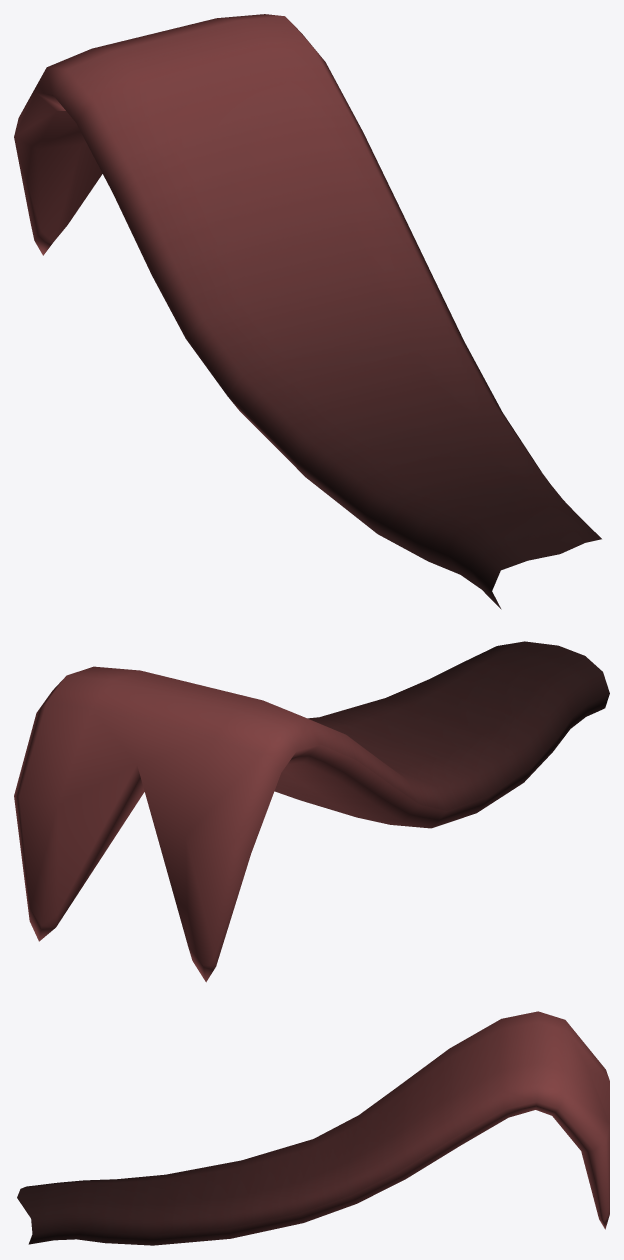
The model's file is forked.glb.
3 renders of one model, top to bottom at view 1: azimuth 30°, elevation 25°; view 2: azimuth 150°, elevation 25°; view 3: azimuth 270°, elevation 25°, orthographic. The views are drawn at different scales.
Visible parts, largest first — view 1: cc_forked6; view 2: cc_forked6; view 3: cc_forked6.
Part boxes in pixels (x1,y1,x2,y2): cc_forked6: (14, 14, 601, 609); cc_forked6: (14, 641, 609, 982); cc_forked6: (17, 1011, 609, 1245).
Bounding box in the file's own units: 0.0501 × 0.0546 × 0.1543.
Materials: 1 (1 with a texture image).
